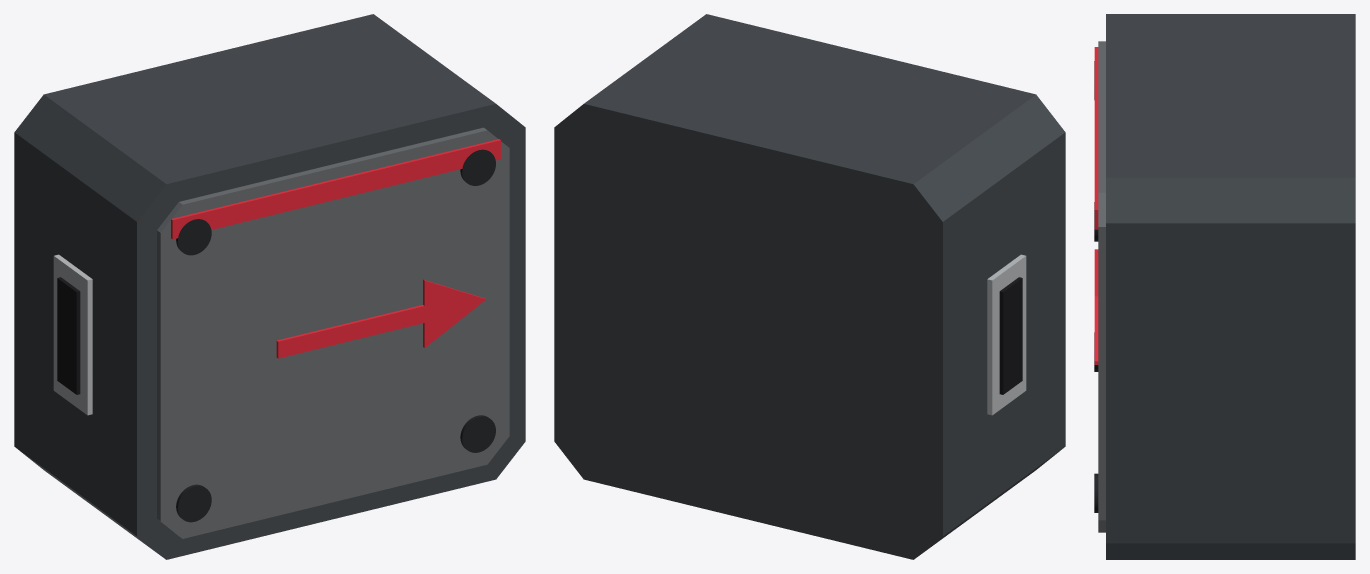
Rendered from hipnuc_n300pro.glb.
3 views of the same model, side by side, from view 1: azimuth 30°, elevation 25°; view 2: azimuth 150°, elevation 25°; view 3: azimuth 270°, elevation 25° (orthographic).
Parts seen in each view (by area): view 1: N300Pro anodized enclosure, N300Pro top label, N300Pro red markings, N300Pro mounting recesses, USB Type-C shell, USB Type-C opening; view 2: N300Pro anodized enclosure, USB Type-C shell, USB Type-C opening; view 3: N300Pro anodized enclosure, N300Pro top label, N300Pro red markings, N300Pro mounting recesses.
Part boxes in pixels (box(x1,y1,x2,y2)): N300Pro anodized enclosure: box(14, 14, 525, 559); N300Pro top label: box(157, 127, 509, 538); N300Pro red markings: box(171, 139, 500, 358); N300Pro mounting recesses: box(176, 149, 495, 522); USB Type-C shell: box(53, 254, 92, 415); USB Type-C opening: box(57, 277, 80, 394); N300Pro anodized enclosure: box(554, 14, 1065, 559); USB Type-C shell: box(987, 254, 1026, 415); USB Type-C opening: box(999, 277, 1022, 394); N300Pro anodized enclosure: box(1106, 14, 1355, 559); N300Pro top label: box(1098, 41, 1105, 532); N300Pro red markings: box(1094, 47, 1098, 364); N300Pro mounting recesses: box(1094, 61, 1098, 512).
Size of the model in its own units: 0.0271 by 0.0245 by 0.0152.
